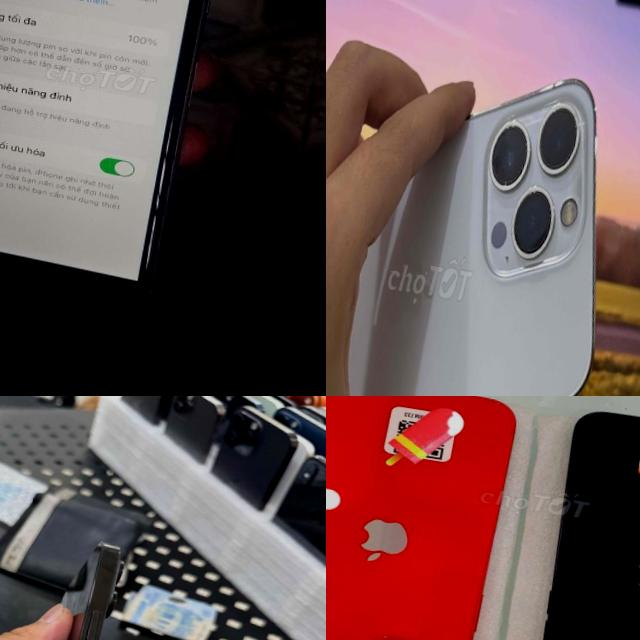gen_12_13: (326, 44, 640, 396)
gen_14: (326, 396, 530, 640), (514, 403, 640, 640), (1, 530, 123, 640)
gen_6: (0, 0, 240, 365)
